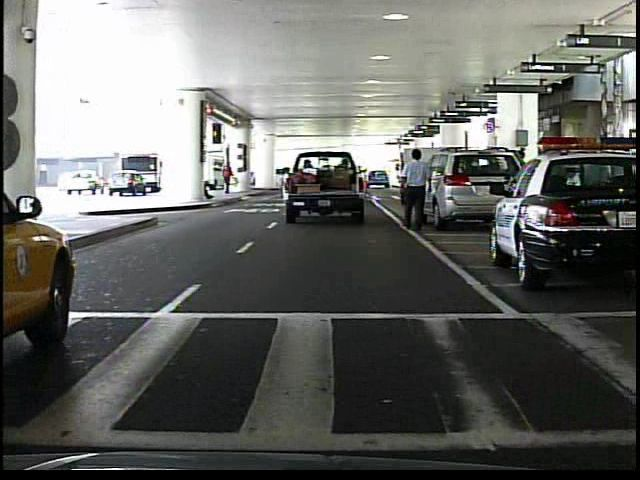person: (396, 144, 438, 232), (220, 160, 237, 197)
